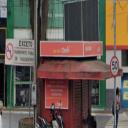NoVirarEsquerda: (6, 42, 14, 60)
speed_limit_50: (110, 55, 119, 78)
